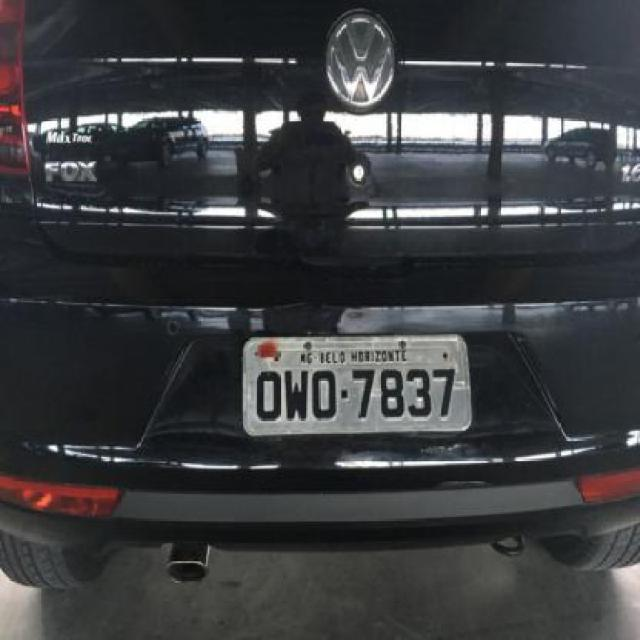old_plate: (238, 330, 480, 444)
